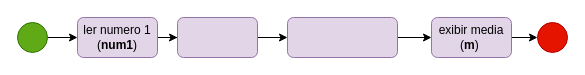
Some shapes in this 585 by 75 pixel diagram are drawn without their labels. The shapes that lost their labels are listed below. From the top down, each one's centre as x and y in pixels, then its label:
At point 217,37: "ler numero 2 ( num2 )".
At point 342,37: "calcular média( M ) ( num 1+ num2 )/2".
